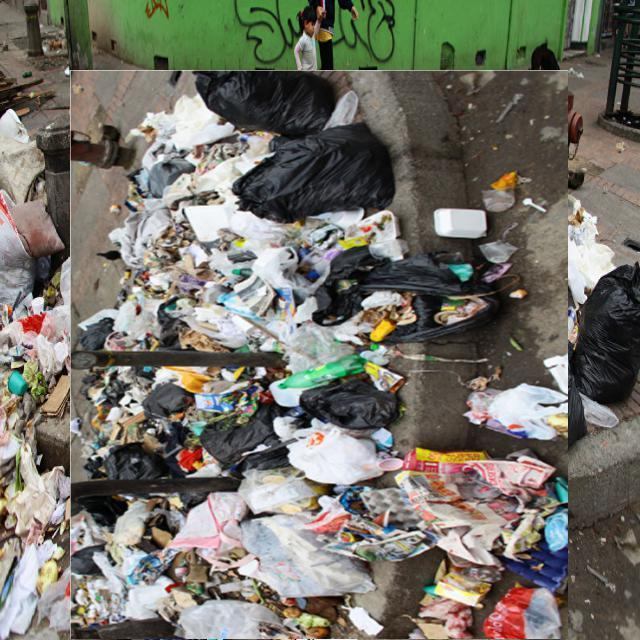Trashbag: (308, 238, 495, 349), (240, 128, 395, 230), (194, 66, 336, 137), (576, 258, 638, 409), (299, 369, 403, 428), (201, 418, 293, 470), (99, 443, 171, 488), (146, 373, 196, 428)
